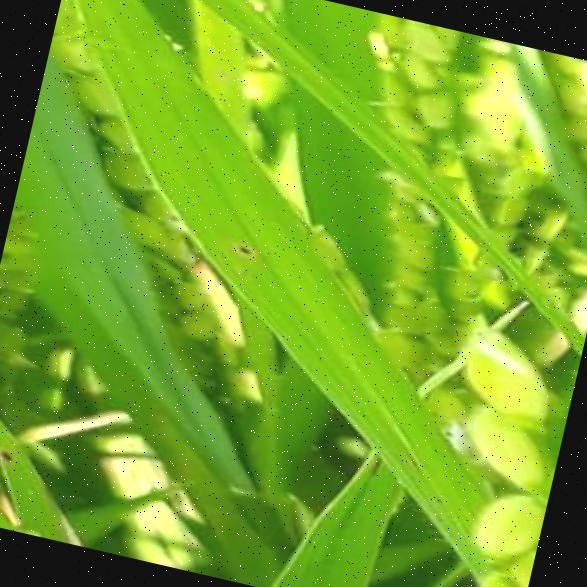Brown_Spot: (224, 234, 258, 260), (0, 439, 20, 466), (430, 489, 446, 505)
